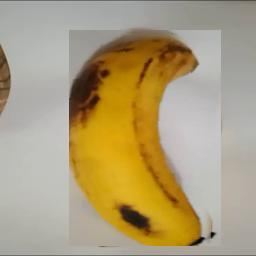Banana Semifresh: (69, 31, 221, 247)
